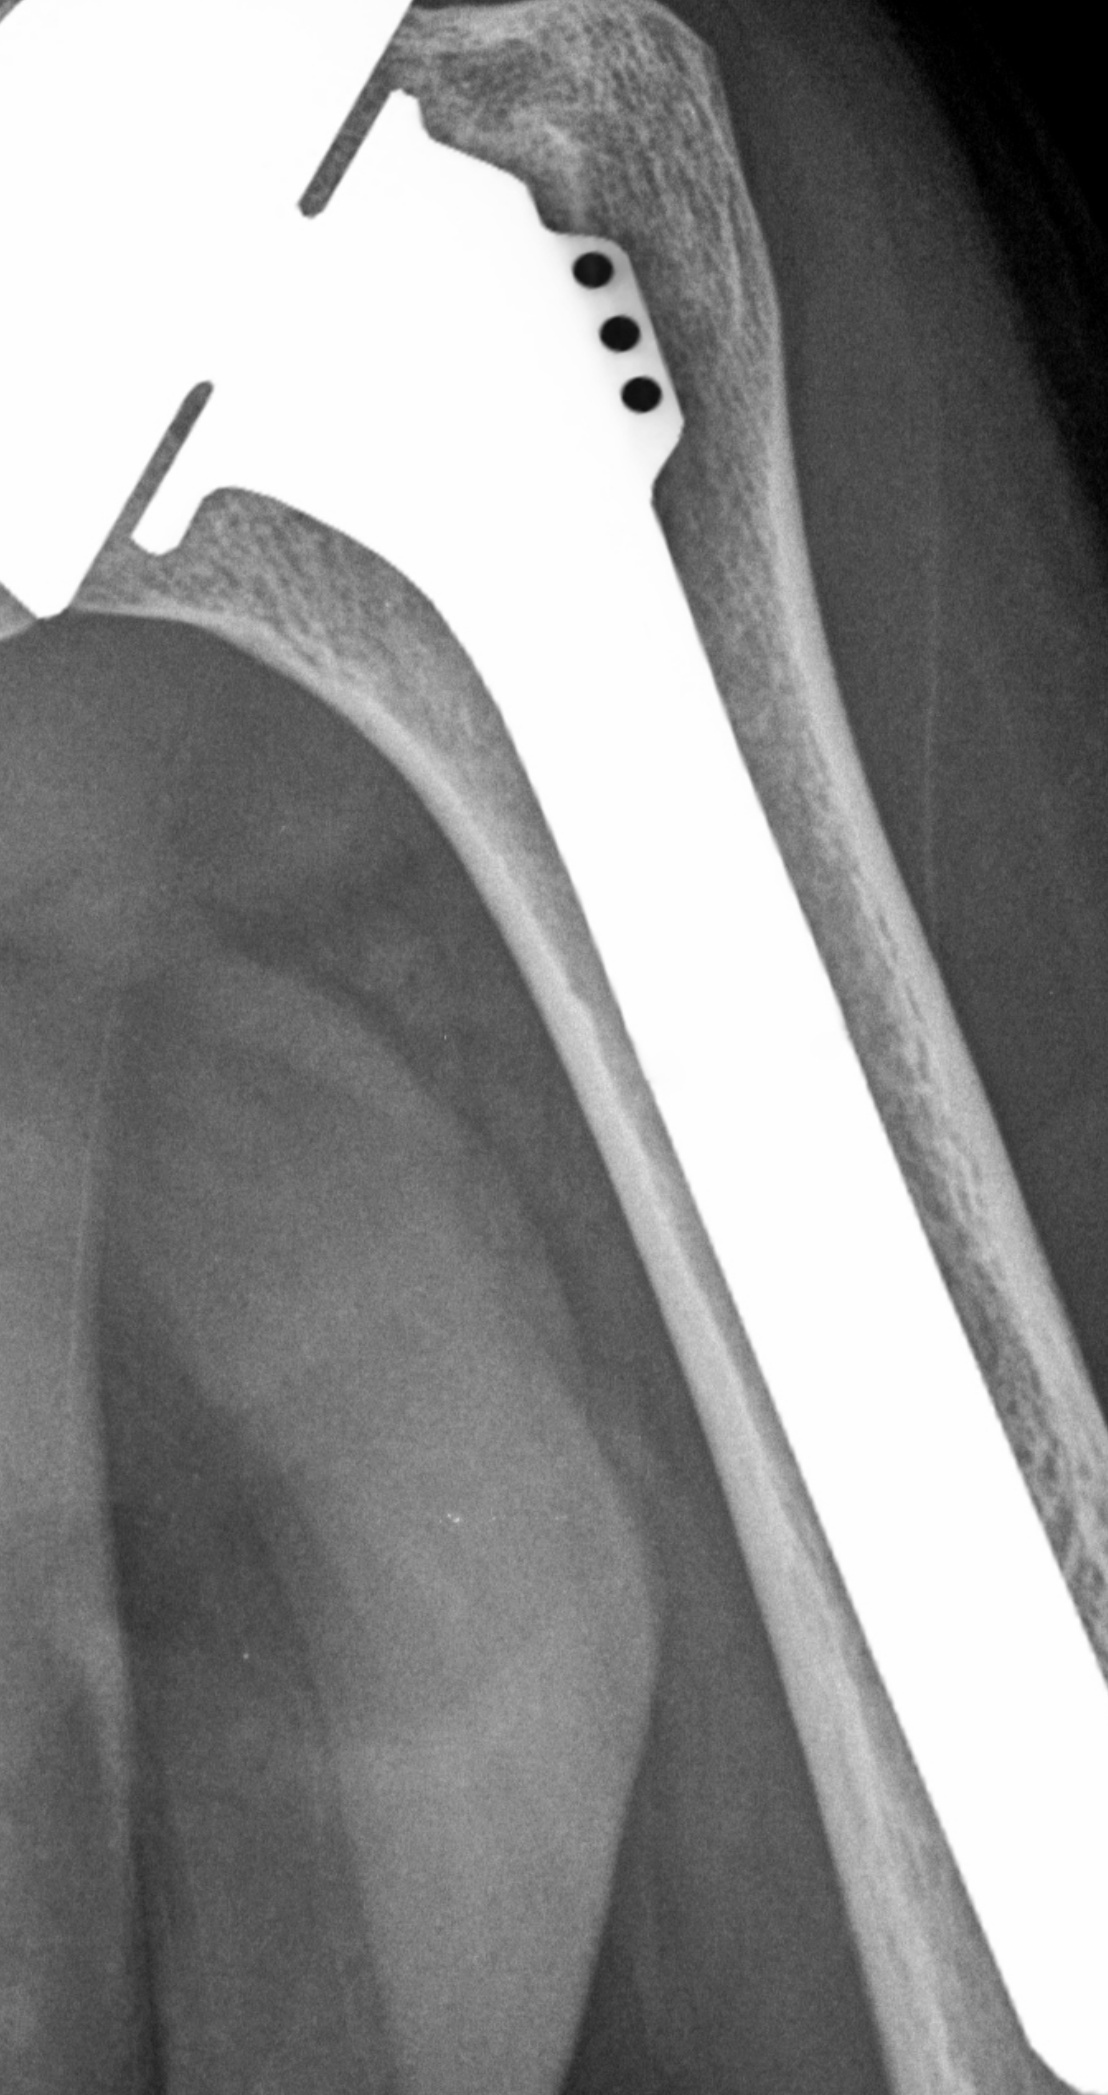Shoulder-Olympia-Wright: (3, 8, 1107, 2095)
